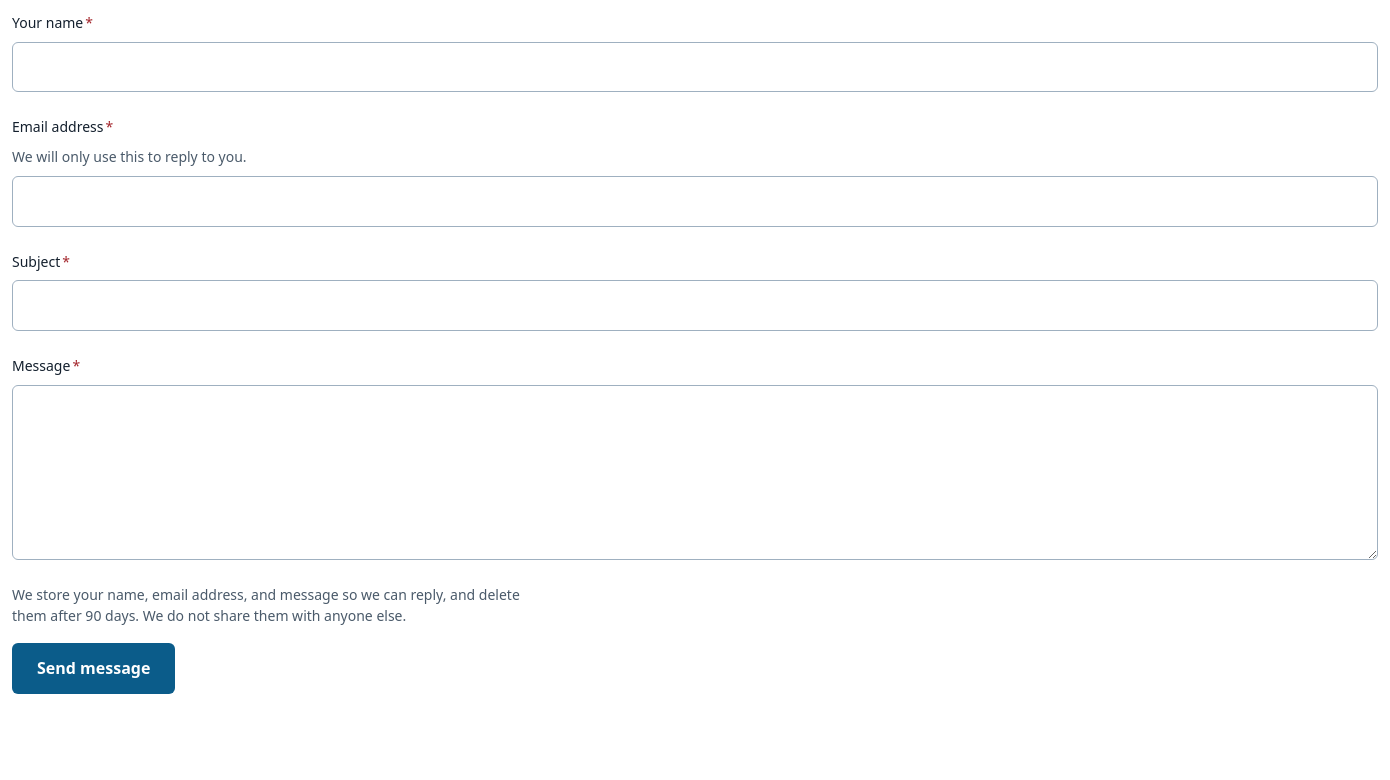
Test: the loading state waits 150ms (FR-027a) › disables the control immediately, threshold or not
Step 1. Type "Amina Farouk" into the field labelled "Your name*" → {"x": 695, "y": 67}, box 12,42 -> 1378,92
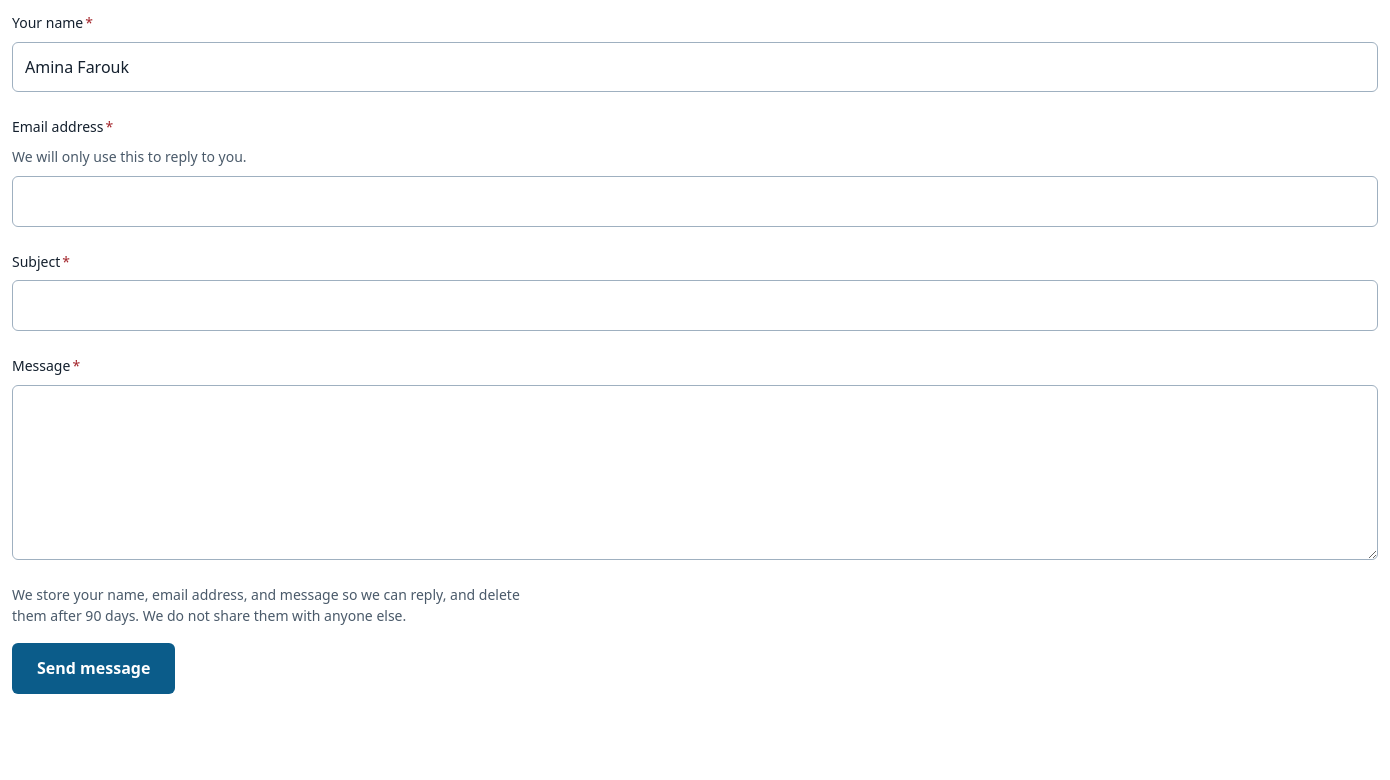
Step 2. Type "amina@example.com" into the field labelled "Email address*" → {"x": 695, "y": 201}, box 12,176 -> 1378,227
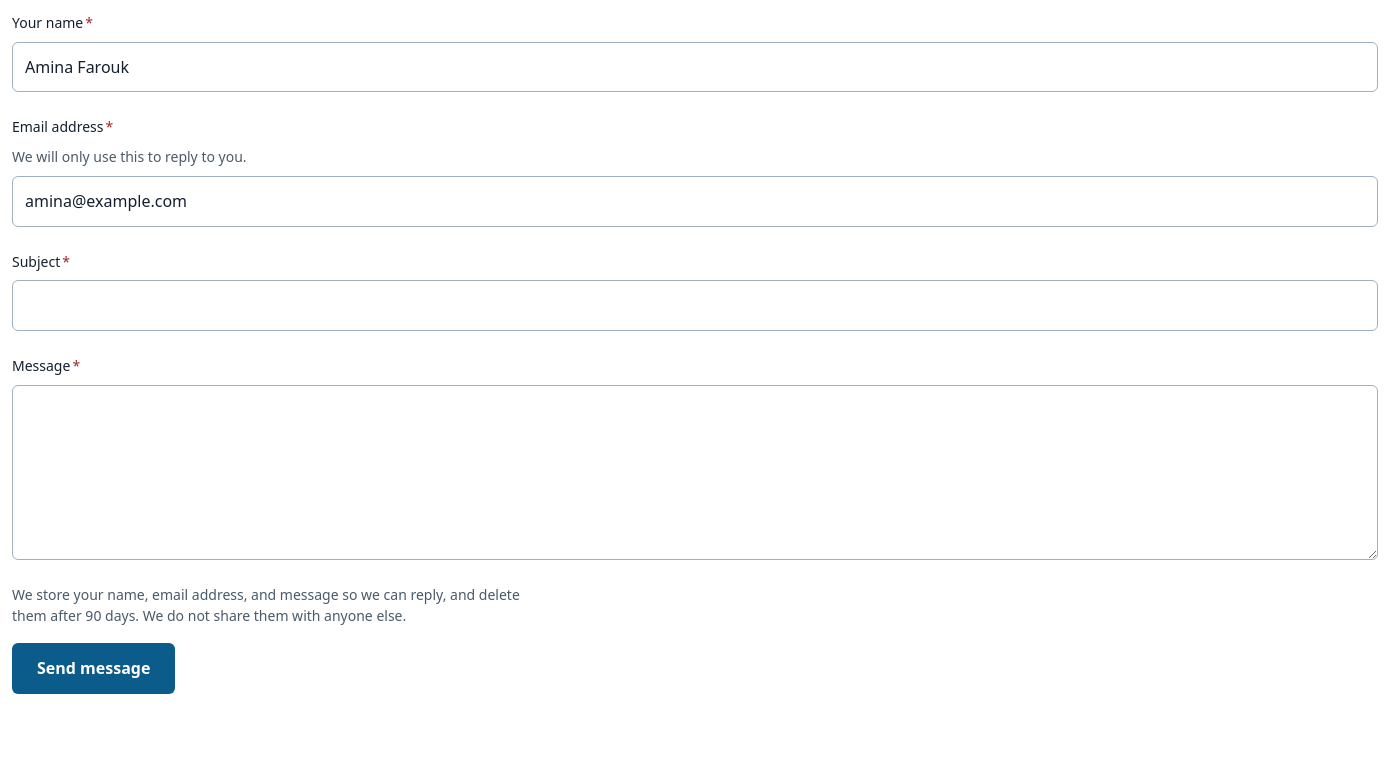
Step 3. Type "Approvals" into the field labelled "Subject*" → {"x": 695, "y": 306}, box 12,280 -> 1378,331
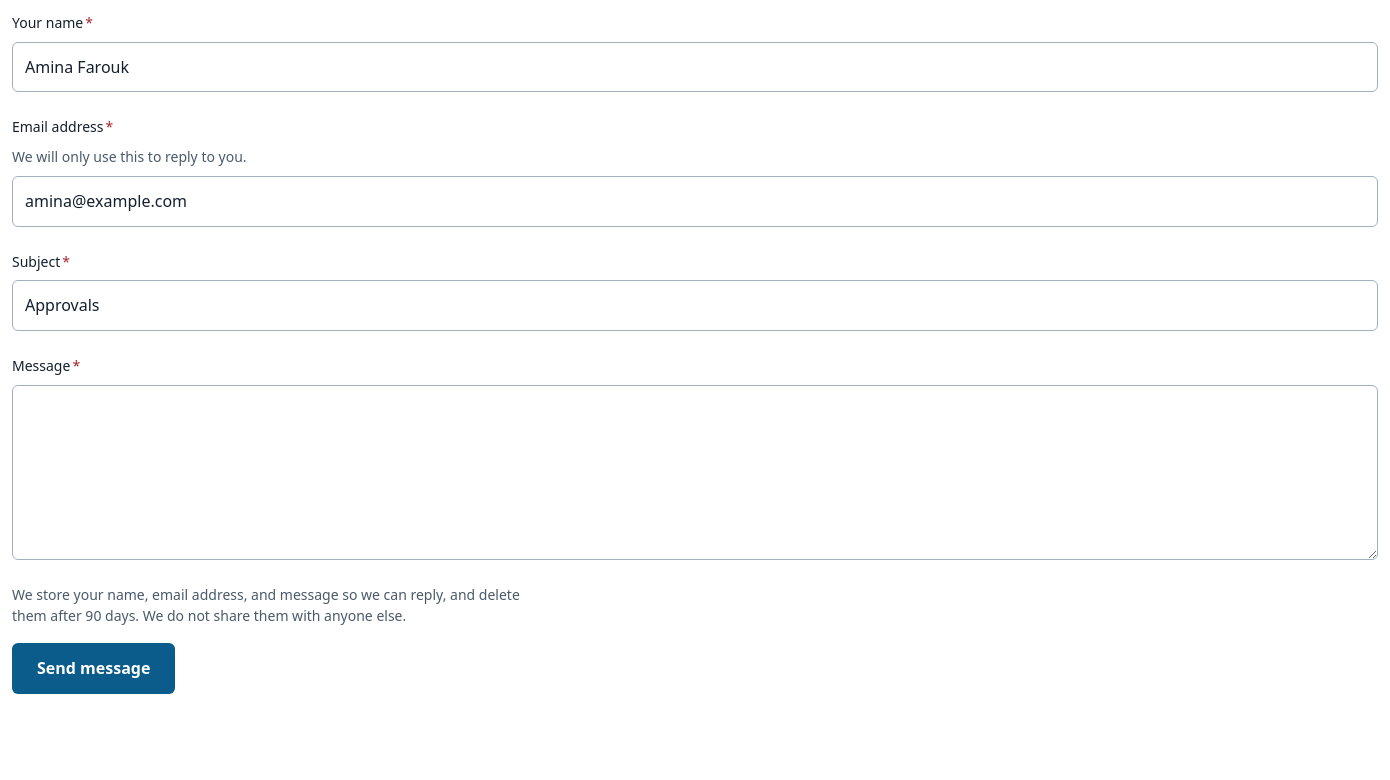
Step 4. Type "We have twelve approval steps and no record of who signed what." into the text box labelled "Message*" → {"x": 695, "y": 472}, box 12,385 -> 1378,560
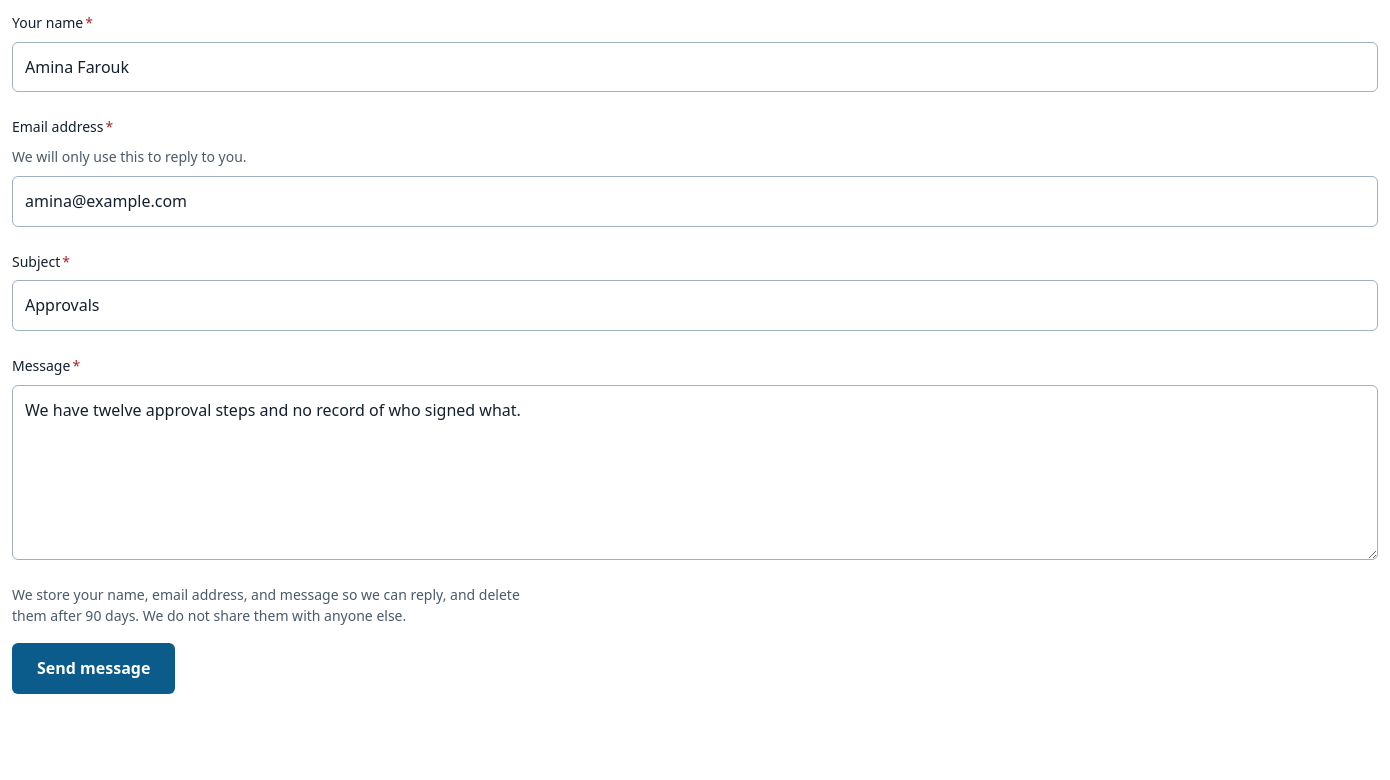
Step 5. Submit the form named "Contact form"
Wait 10 ms
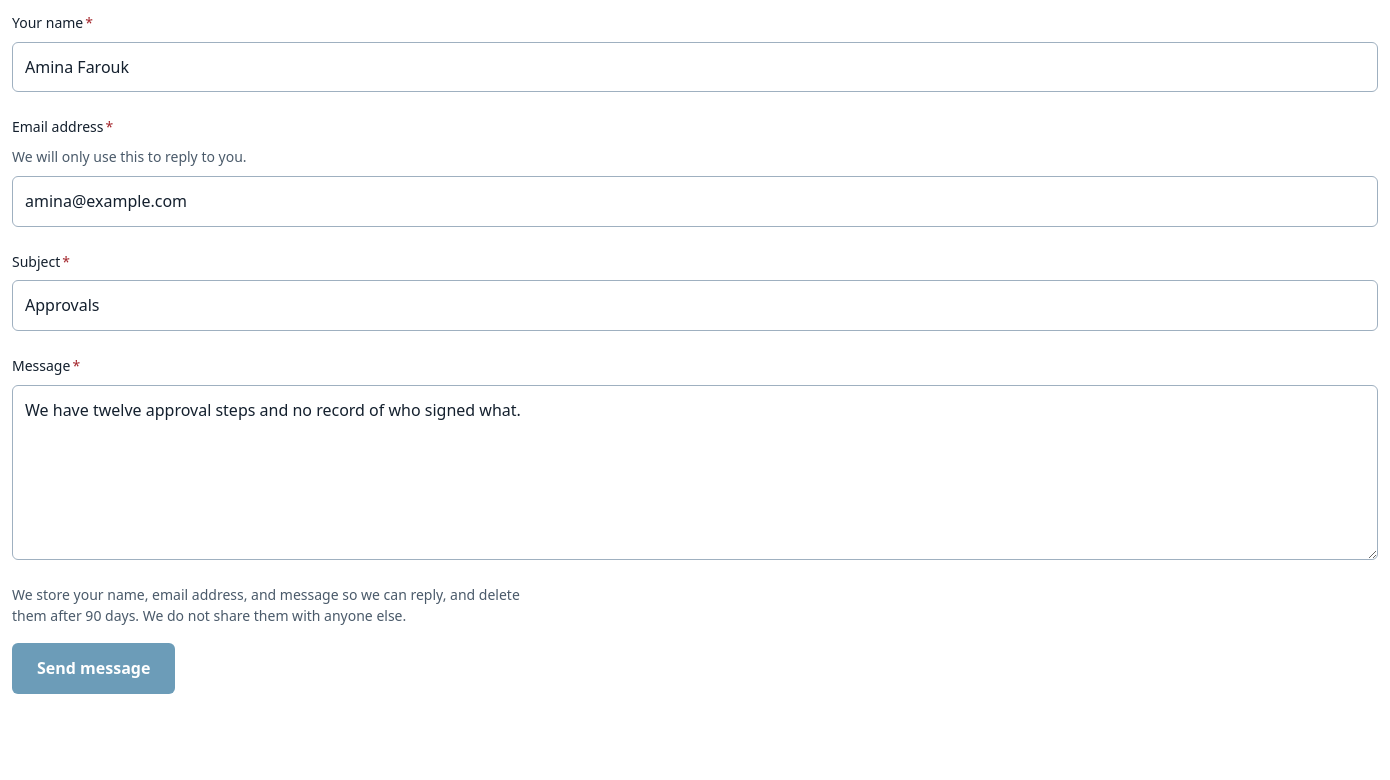
Result: the button "Send message" is disabled at 12,643 -> 175,694
